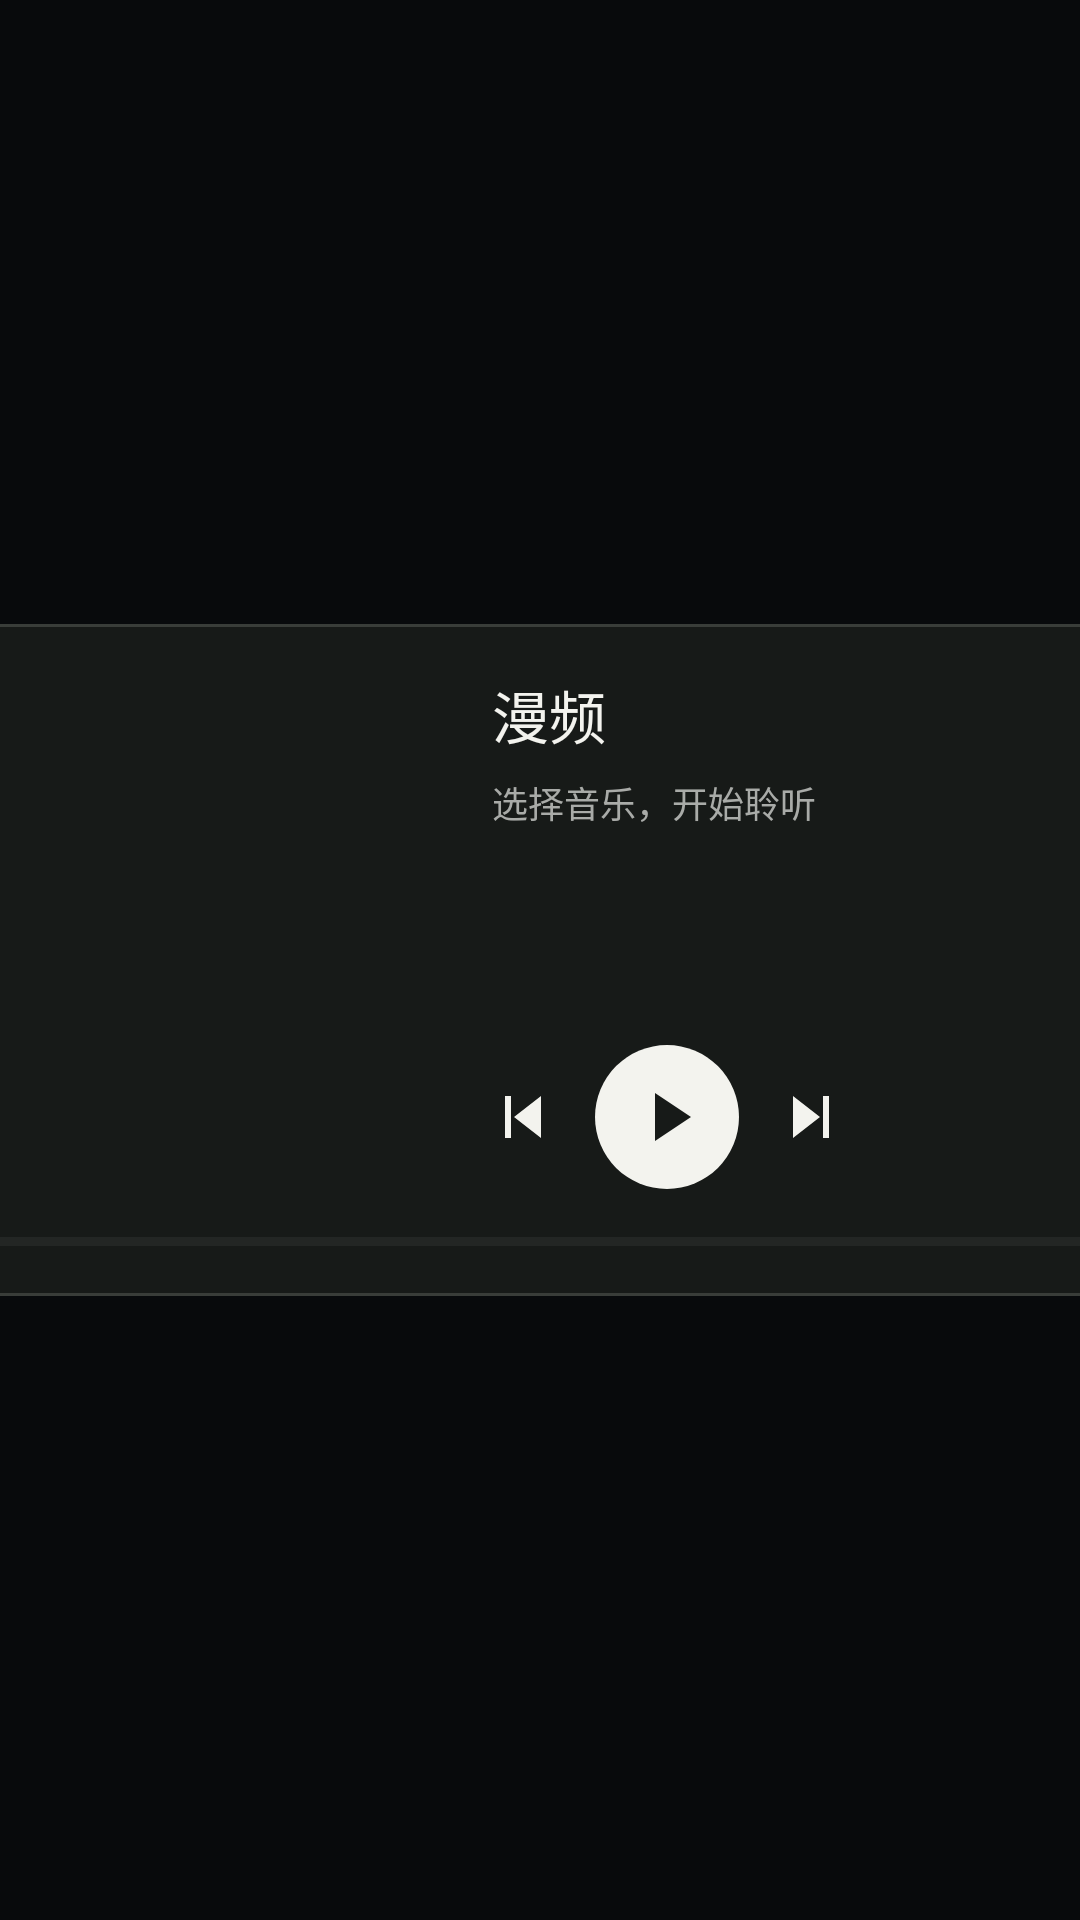

Screen size 1080×1920. Icon name, then its center in pixels as (x,y):
下一首: (811,1117)
播放或暂停: (667,1117)
